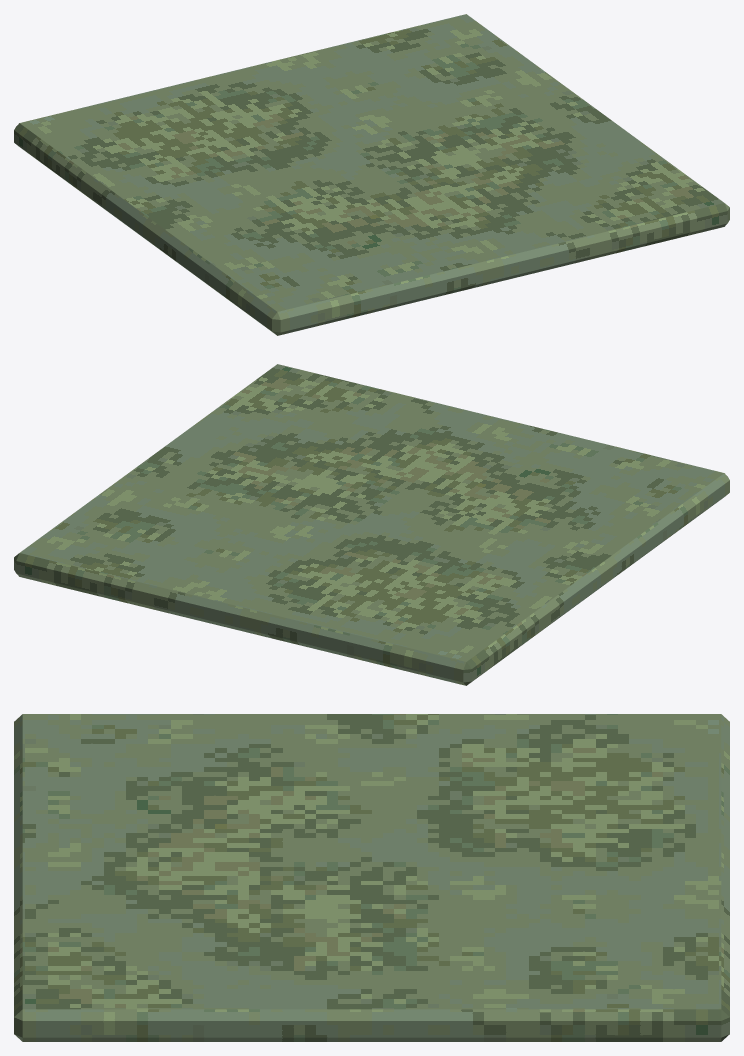
The model's file is topo_a.fbx.
The picture shows the model from 3 angles, top to bottom: view 1: azimuth 30°, elevation 25°; view 2: azimuth 150°, elevation 25°; view 3: azimuth 270°, elevation 25°; orthographic projection. The views are drawn at different scales.
Visible parts, largest first — view 1: bosque_topo_a; view 2: bosque_topo_a; view 3: bosque_topo_a.
Part boxes in pixels (x1,y1,x2,y2): bosque_topo_a: (14,14,729,335); bosque_topo_a: (14,364,729,685); bosque_topo_a: (14,714,729,1041).
Size of the model in its own units: 100 by 5 by 100.
Materials: 1 (1 with a texture image).
